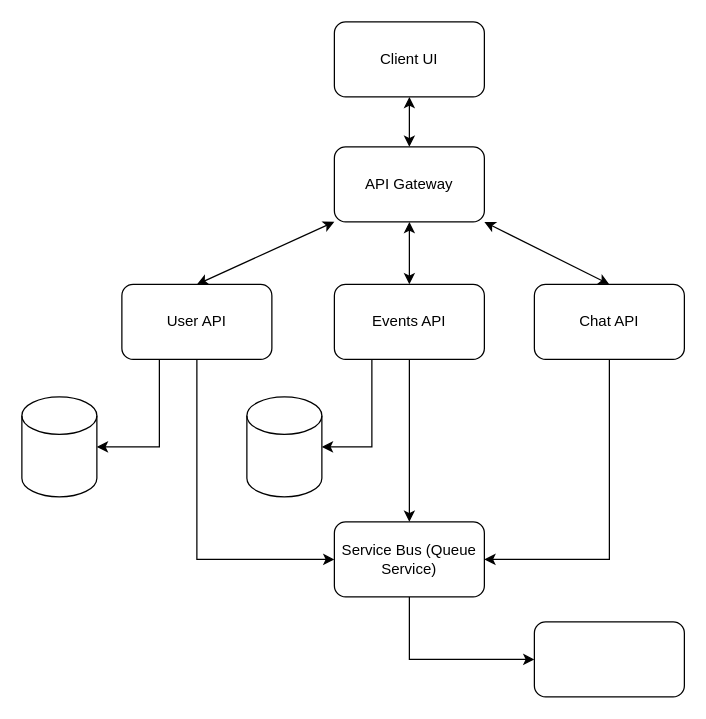
The diagram is 706 pixels wide and 719 high, and some of its shapes have lost their labels. Each missing label, with the box of its shape:
Events Database: (246, 396, 322, 497)
Notifications Service: (533, 621, 684, 697)
User Database: (21, 396, 97, 497)
